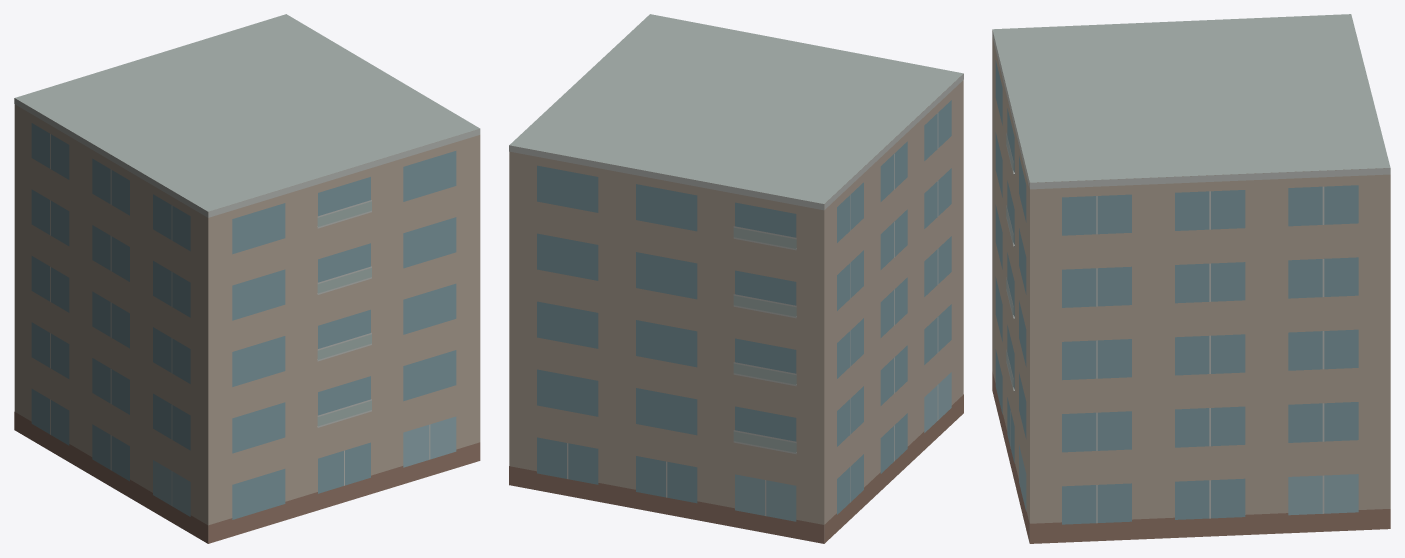
Rendered from survey-upis-32654169.glb.
3 views of the same model, side by side, from view 1: azimuth 30°, elevation 25°; view 2: azimuth 150°, elevation 25°; view 3: azimuth 270°, elevation 25° (orthographic). The views are drawn at different scales.
Parts seen in each view (by area): view 1: survey-upis-32654169.tmp; view 2: survey-upis-32654169.tmp; view 3: survey-upis-32654169.tmp.
Part boxes in pixels (left/top/right/bottom): survey-upis-32654169.tmp: left=14, top=14, right=480, bottom=543; survey-upis-32654169.tmp: left=509, top=14, right=963, bottom=543; survey-upis-32654169.tmp: left=992, top=14, right=1390, bottom=543.
Size of the model in its own units: 13.22 by 13.18 by 13.18.
